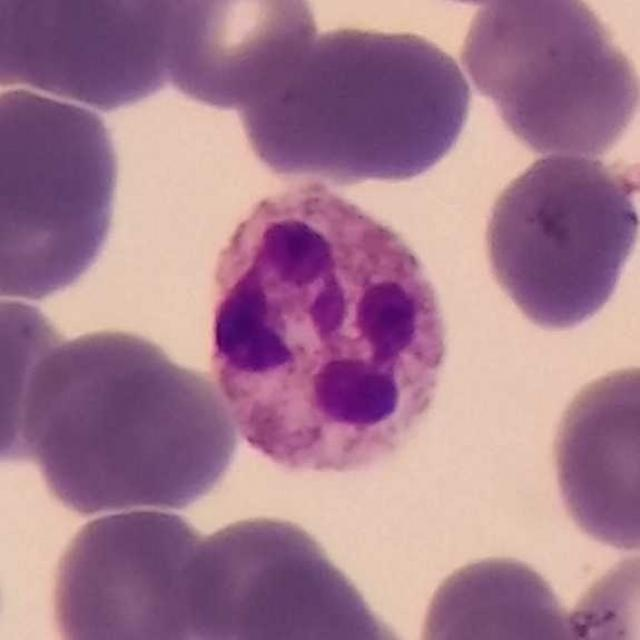Neutrophil: (194, 171, 461, 501)
RBC: (23, 328, 242, 518), (244, 17, 478, 184), (475, 148, 640, 336), (0, 79, 129, 305), (462, 1, 640, 159), (40, 502, 224, 640), (176, 509, 344, 639), (1, 1, 185, 110), (542, 358, 640, 556), (155, 0, 324, 108), (218, 547, 407, 640), (412, 547, 590, 640), (0, 292, 73, 474), (560, 541, 640, 640), (0, 0, 75, 99)
